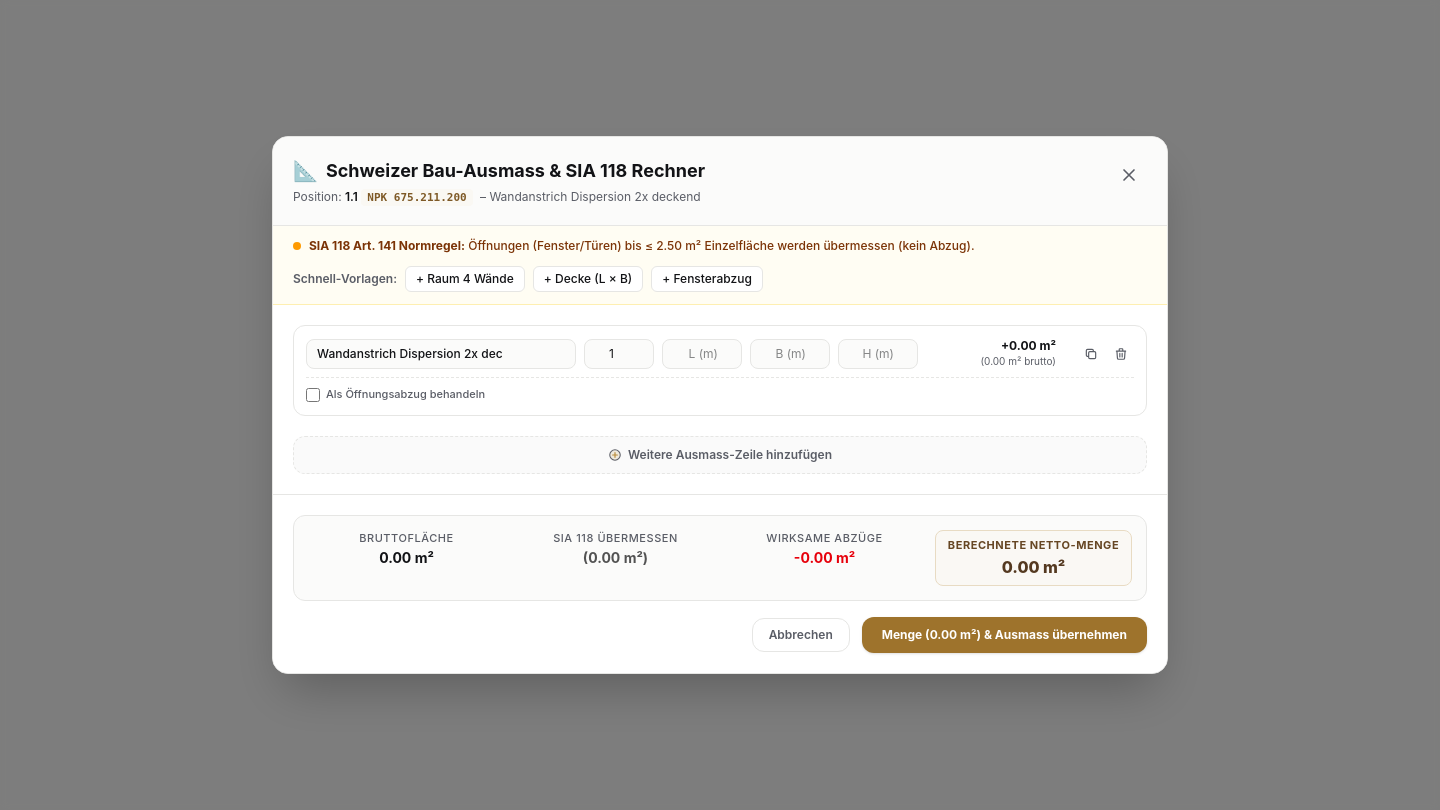
Test: AusmassModal › adds quick template for Decke
What coordinates should you click on to do the following:
click the button "+ Decke (L × B)"
I would click on:
 (588, 279)
Its box is 533,266 -> 643,292.
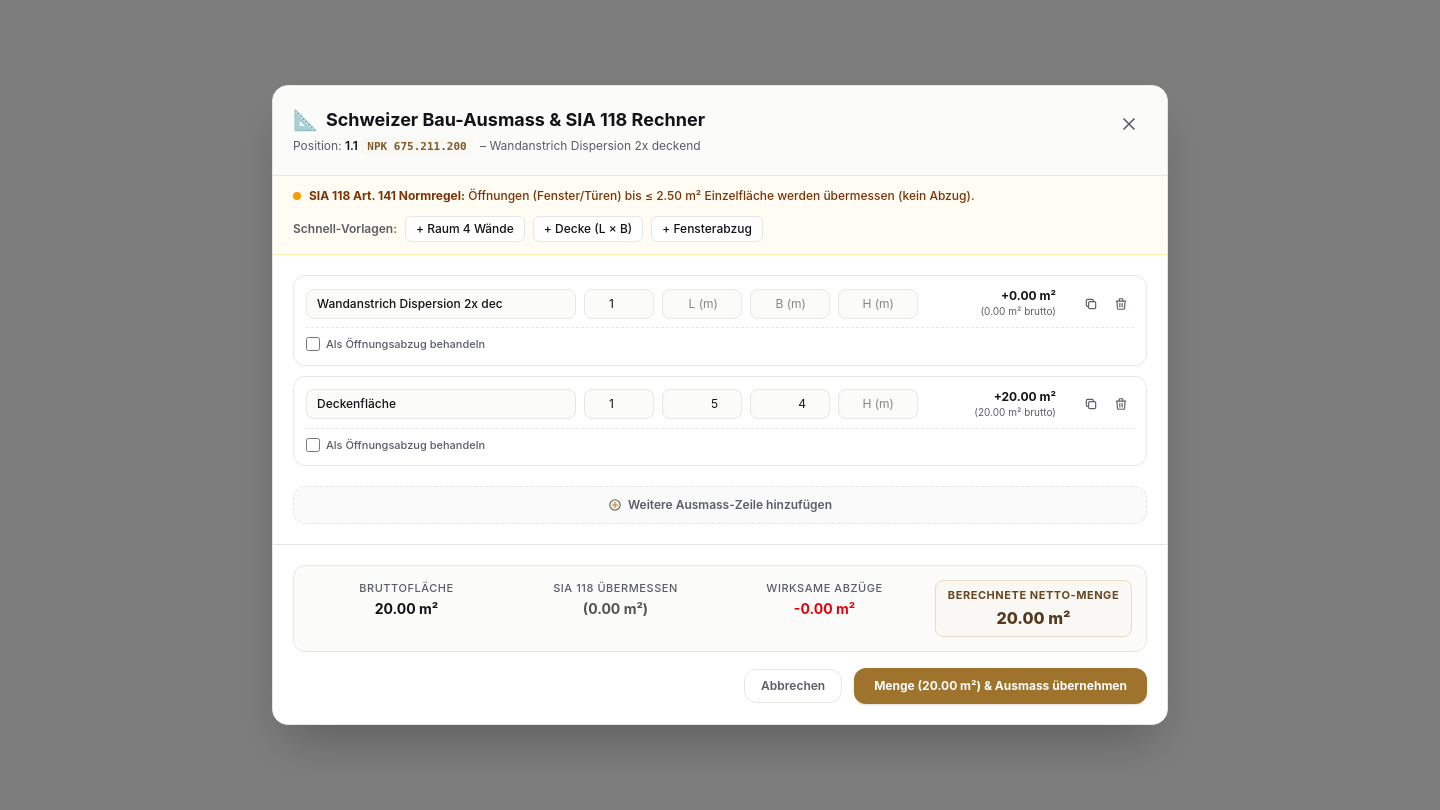
Expected: the field showing "Deckenfläche" in the row of "+20.00 m²" is shown, 306,389 -> 576,419
